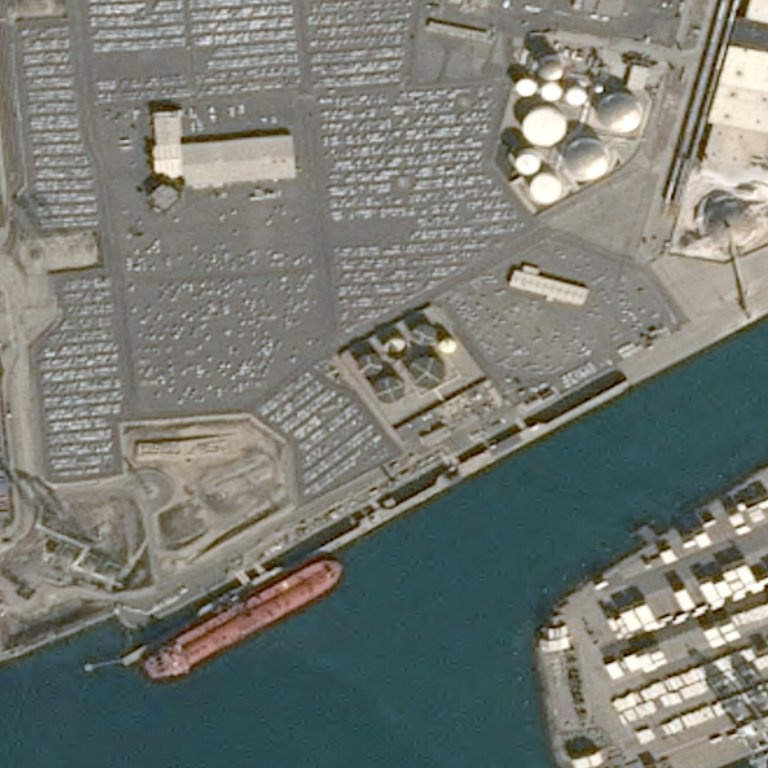ship: (143, 560, 342, 679)
